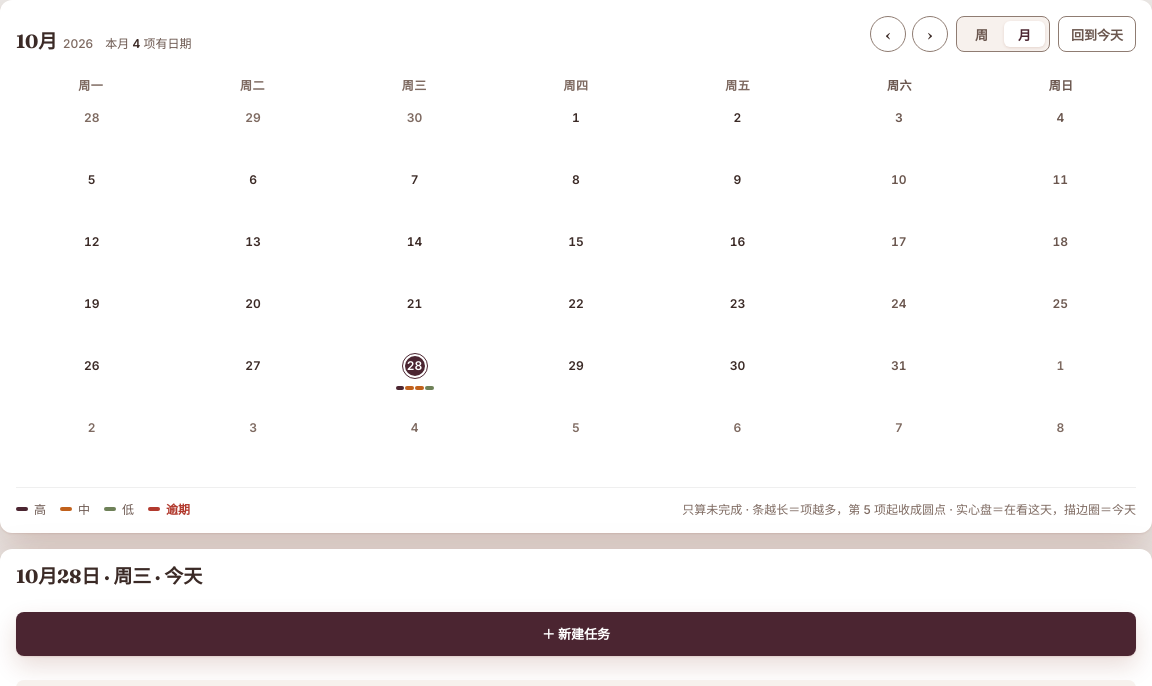
Test: TasksView calendar › the week density trades marks for titles, and caps them the same way
This screenshot has width=1152, height=686.
Click the button with class "seg-btn" showing "周" at (982, 34), box [961,21,1002,47]
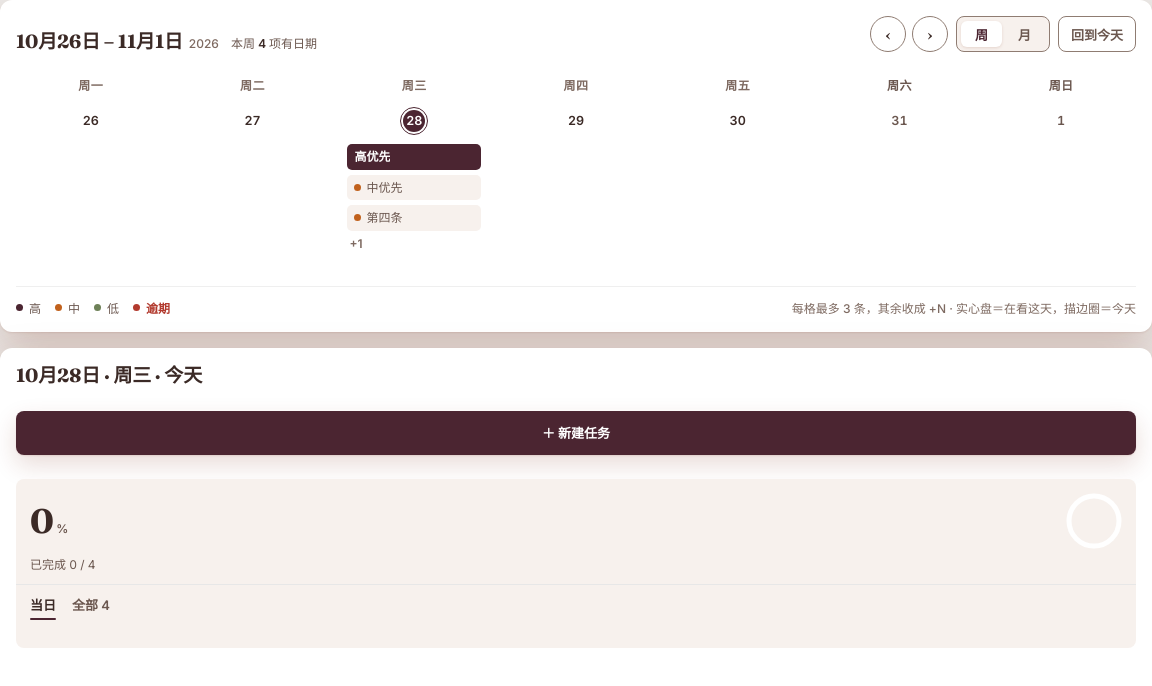
Now the number of buttons with class "cell" is 7
Now the element showing "高优先" is shown, box [347,144,481,170]
Now the text with class "more-p" reads "+1", box [349,236,363,251]
